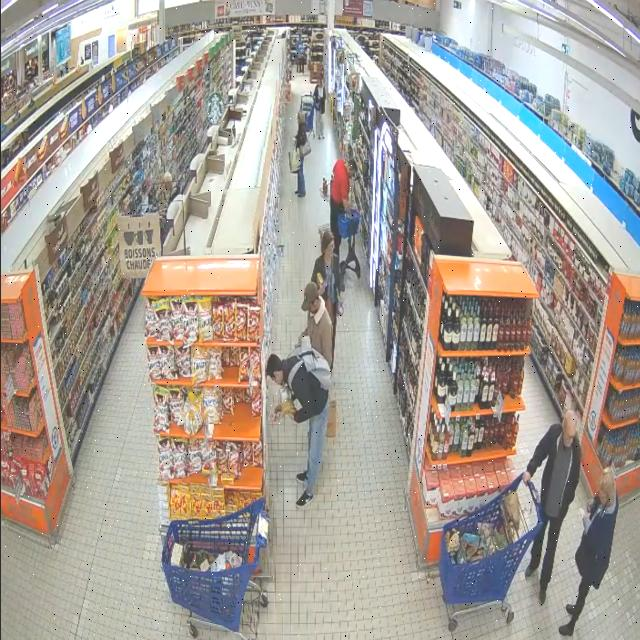article: (281, 399, 296, 417), (268, 409, 282, 426), (316, 273, 324, 289), (293, 398, 302, 411)
bags: (289, 336, 331, 390), (327, 400, 337, 437), (290, 148, 300, 172), (300, 138, 311, 156)
hands: (579, 508, 590, 530), (522, 471, 531, 483), (318, 282, 326, 295), (274, 404, 281, 413)
person: (523, 411, 580, 604), (559, 469, 618, 636), (266, 354, 328, 508), (312, 231, 344, 363), (301, 283, 333, 366), (330, 159, 355, 258), (296, 111, 307, 197), (314, 79, 325, 138)
